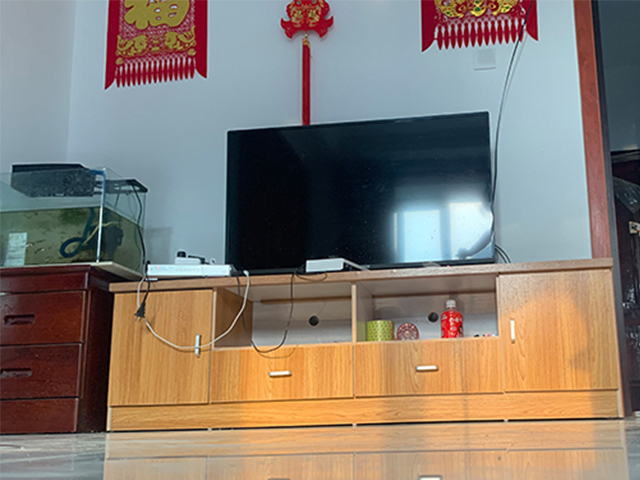cabinet: (106, 255, 624, 432), (1, 267, 120, 435)
wire: (132, 253, 298, 352)
